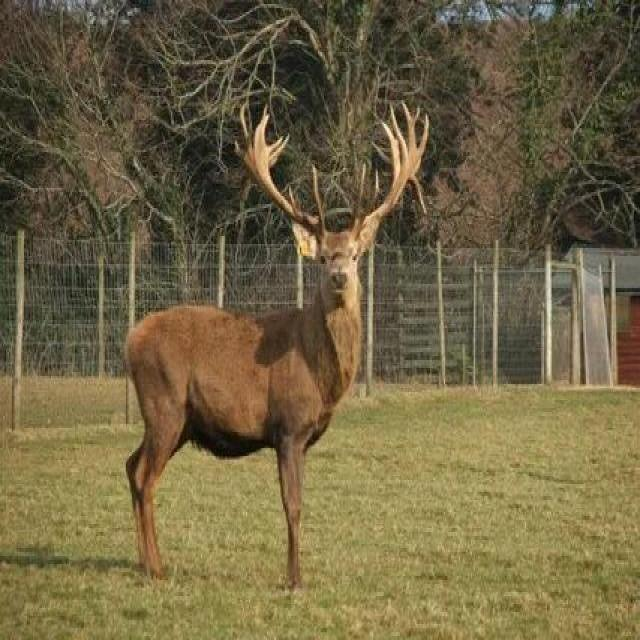deer: (109, 134, 417, 546)
